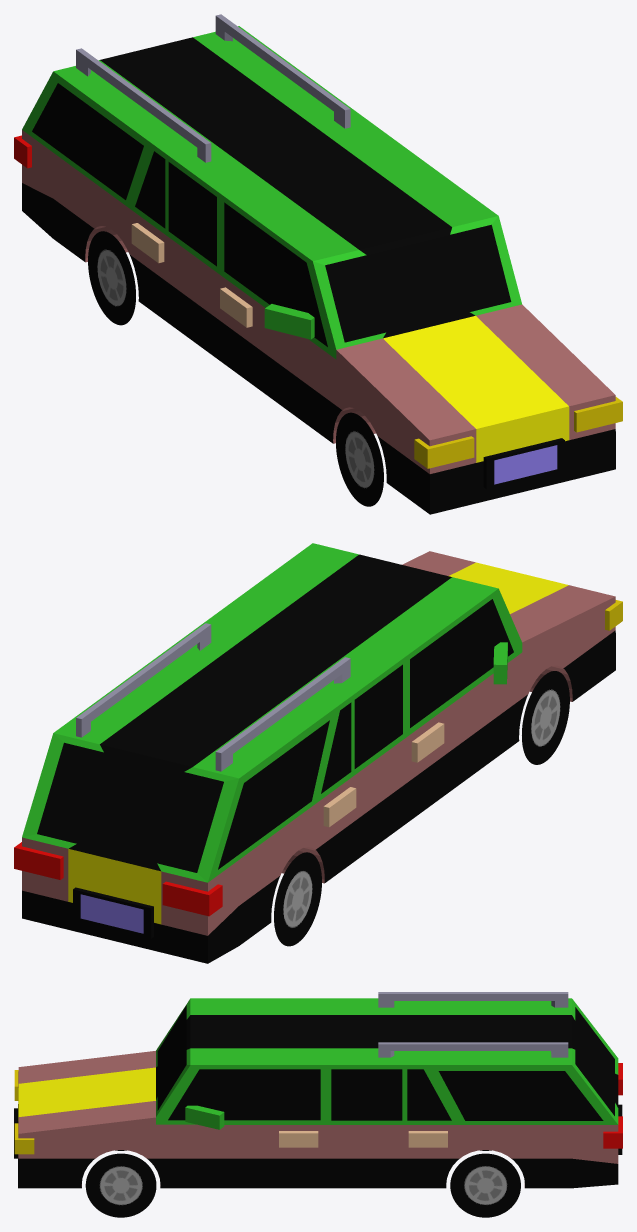
File: Mobil_8_Hijau_D.fbx
3 views of the same model, one above another, from view 1: azimuth 30°, elevation 25°; view 2: azimuth 150°, elevation 25°; view 3: azimuth 270°, elevation 25° (orthographic). The views are drawn at different scales.
Parts seen in each view (by area): view 1: Mobil2.001; view 2: Mobil2.001; view 3: Mobil2.001.
Part boxes in pixels (box(x1,y1,x2,y2)): Mobil2.001: box(14, 14, 622, 514); Mobil2.001: box(14, 543, 622, 963); Mobil2.001: box(14, 992, 622, 1217).
Size of the model in its own units: 521 by 465 by 1543.
5 materials, 3 textured.
